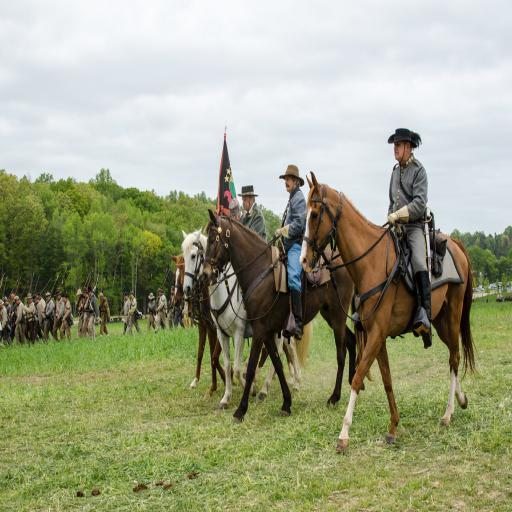horse: (297, 170, 480, 456), (200, 209, 366, 420), (180, 224, 316, 412), (168, 248, 258, 402)
